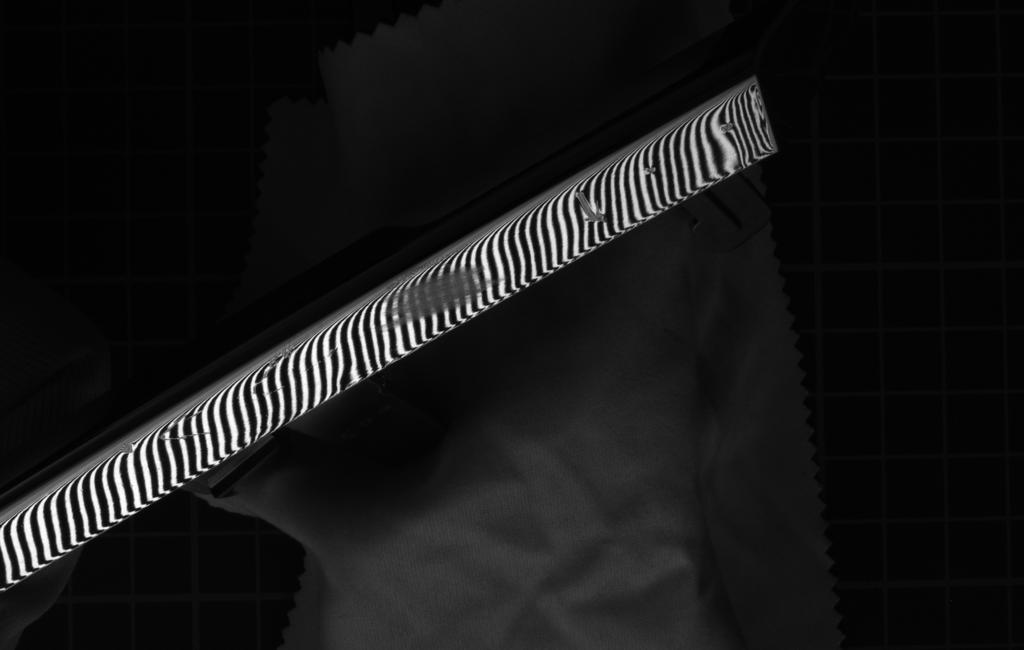Pierced: (642, 159, 667, 179), (716, 117, 740, 136), (117, 440, 140, 458)
Pitting: (377, 262, 511, 332)
Scratch: (250, 339, 311, 404), (156, 399, 222, 447), (569, 185, 612, 230)
